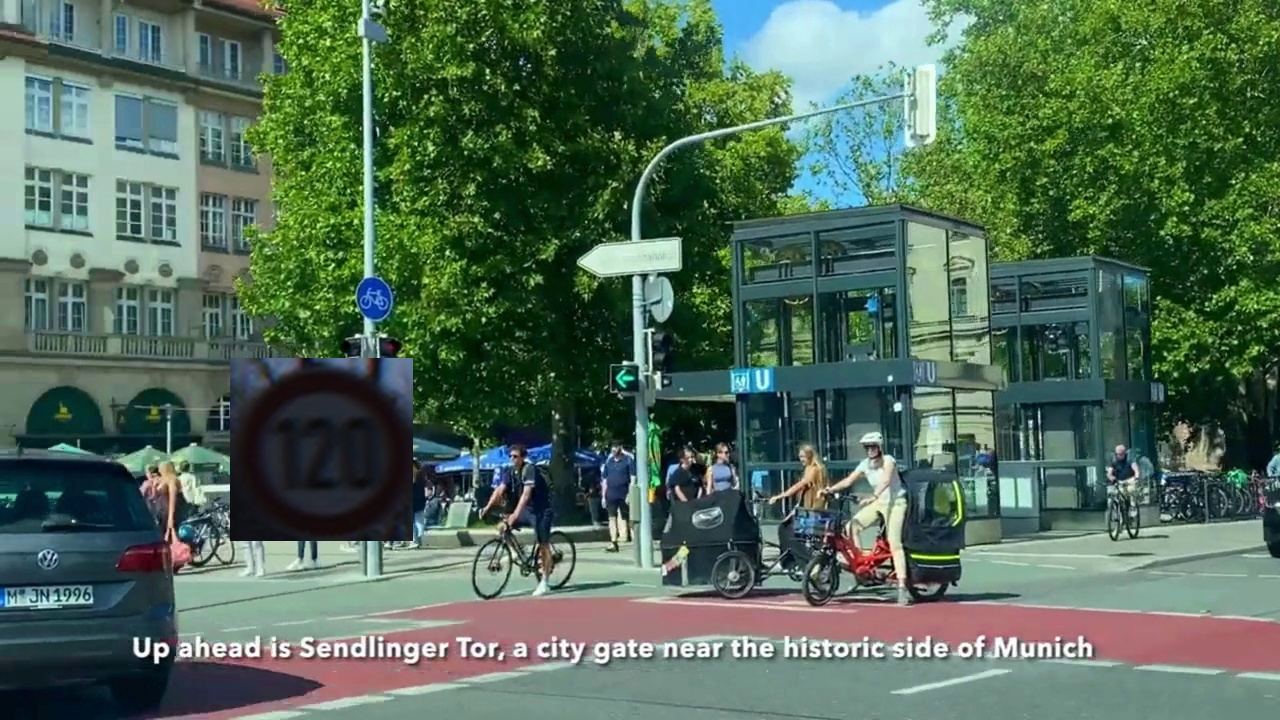Speed 120: (230, 358, 413, 541)
